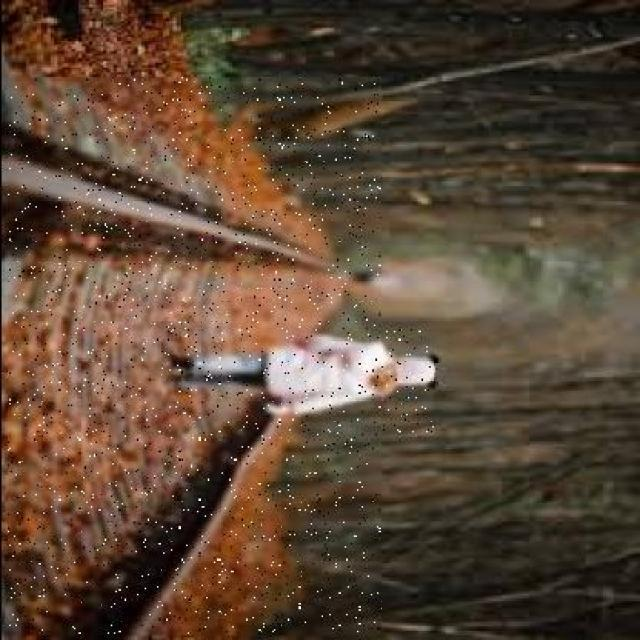rail: (7, 79, 380, 635)
